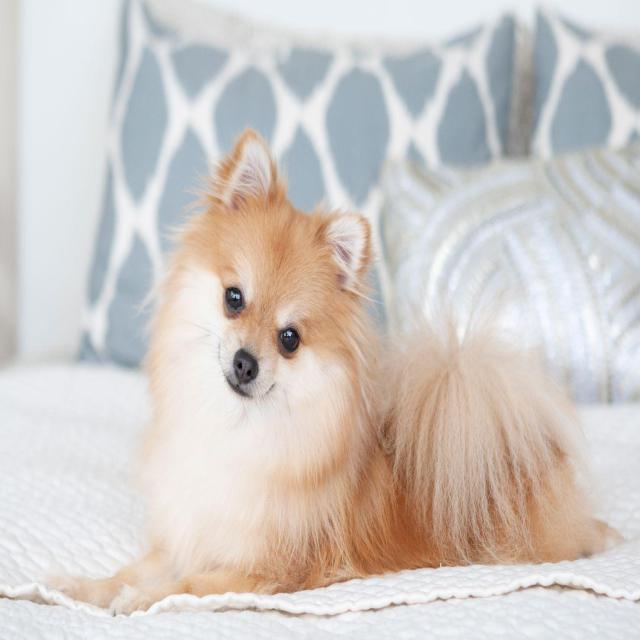Dog: (169, 116, 383, 430)
